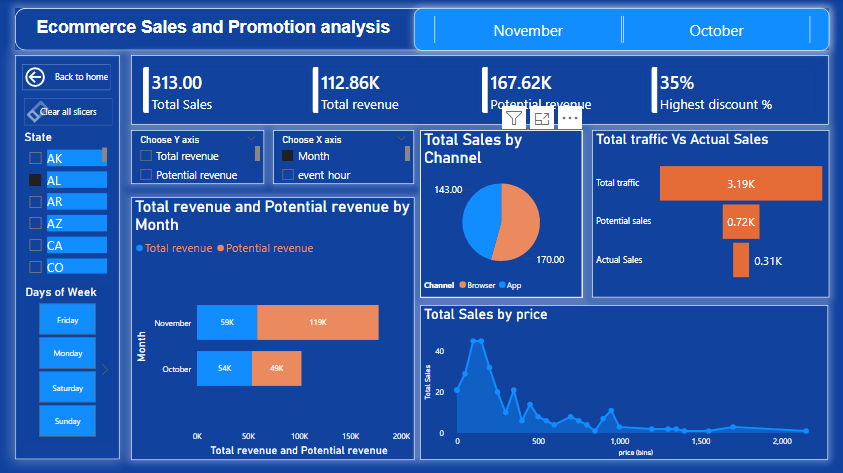

What the dashboard file says about the page in this screenshot:
{"tool":"powerbi","page":{"name":"Sales and revenue analysis","canvas":[1280,720],"ordinal":2},"visuals":[{"type":"shape","box":[22.7,85.2,159.1,613.5],"z":0},{"type":"shape","box":[22.7,13.3,1234.6,64.4],"z":1000},{"type":"textbox","box":[49.3,22.8,1177.5,45.5],"z":2000},{"type":"cardVisual","title":"Total traffic","fields":{"Data":["Choose X axis for avg price.Total Sales","Choose X axis for avg price.Total revenue","Choose X axis for avg price.Potential revenue","Choose X axis for avg price.Highest discount percentage"]},"box":[198.8,85.2,1058.5,106],"z":3000},{"type":"slicer","fields":{"Values":["Sales_Data_Ecommerce.Month"]},"box":[628.2,13.3,629.7,65],"z":4000},{"type":"slicer","title":"State","fields":{"Values":["Sales_Data_Ecommerce.State"]},"box":[32.2,198.8,136.3,223.4],"z":5000},{"type":"slicer","title":"Days of Week","fields":{"Values":["Sales_Data_Ecommerce.Day_of_Week"]},"box":[34.1,433.6,136.3,236.7],"z":6000},{"type":"barChart","fields":{"Category":["Sales_Data_Ecommerce.Month"],"Y":["Choose X axis for avg price.Total revenue","Choose X axis for avg price.Potential revenue"]},"box":[198.1,299.6,429.6,398.6],"z":7000},{"type":"slicer","fields":{"Values":["Choose X axis.Choose X axis"]},"box":[413.5,199.3,214.2,81.7],"z":8000},{"type":"slicer","fields":{"Values":["Choose Y axis 2.Choose Y axis"]},"box":[199.3,199.3,201.8,81.7],"z":9000},{"type":"funnel","title":"Total traffic Vs Actual Sales","fields":{"Y":["Choose X axis for avg price.Total traffic","Choose X axis.Potential sales","Choose X axis for avg price.Total Sales"]},"box":[897.5,199.3,360.2,253.8],"z":10000},{"type":"pieChart","fields":{"Category":["Sales_Data_Ecommerce.Channel"],"Y":["Choose X axis for avg price.Total Sales"]},"box":[637.5,199.3,246.3,253.8],"z":11000},{"type":"areaChart","title":"Total Sales by price ","fields":{"Y":["Choose X axis for avg price.Total Sales"],"Category":["Sales_Data_Ecommerce.price (bins)"]},"box":[637.5,464.2,619,235.2],"z":12000},{"type":"actionButton","box":[36,149.6,134.4,41.7],"z":13000},{"type":"actionButton","box":[34.1,98.5,134.4,39.8],"z":14000}]}

Visuals, with their boxes in screenshot pixels (x1, y1, x2, y2), scaled from the page's 1280x720 canvas onto the 843x473 screenshot:
shape: [x1=15, y1=56, x2=120, y2=459]
shape: [x1=15, y1=9, x2=828, y2=51]
textbox: [x1=32, y1=15, x2=808, y2=45]
"Total traffic" cardVisual: [x1=131, y1=56, x2=828, y2=126]
slicer - Sales_Data_Ecommerce.Month: [x1=414, y1=9, x2=828, y2=51]
"State" slicer: [x1=21, y1=131, x2=111, y2=277]
"Days of Week" slicer: [x1=22, y1=285, x2=112, y2=440]
barChart - Sales_Data_Ecommerce.Month x Choose X axis for avg price.Total revenue: [x1=130, y1=197, x2=413, y2=459]
slicer - Choose X axis.Choose X axis: [x1=272, y1=131, x2=413, y2=185]
slicer - Choose Y axis 2.Choose Y axis: [x1=131, y1=131, x2=264, y2=185]
"Total traffic Vs Actual Sales" funnel: [x1=591, y1=131, x2=828, y2=298]
pieChart - Sales_Data_Ecommerce.Channel x Choose X axis for avg price.Total Sales: [x1=420, y1=131, x2=582, y2=298]
"Total Sales by price " areaChart: [x1=420, y1=305, x2=828, y2=459]
actionButton: [x1=24, y1=98, x2=112, y2=126]
actionButton: [x1=22, y1=65, x2=111, y2=91]
